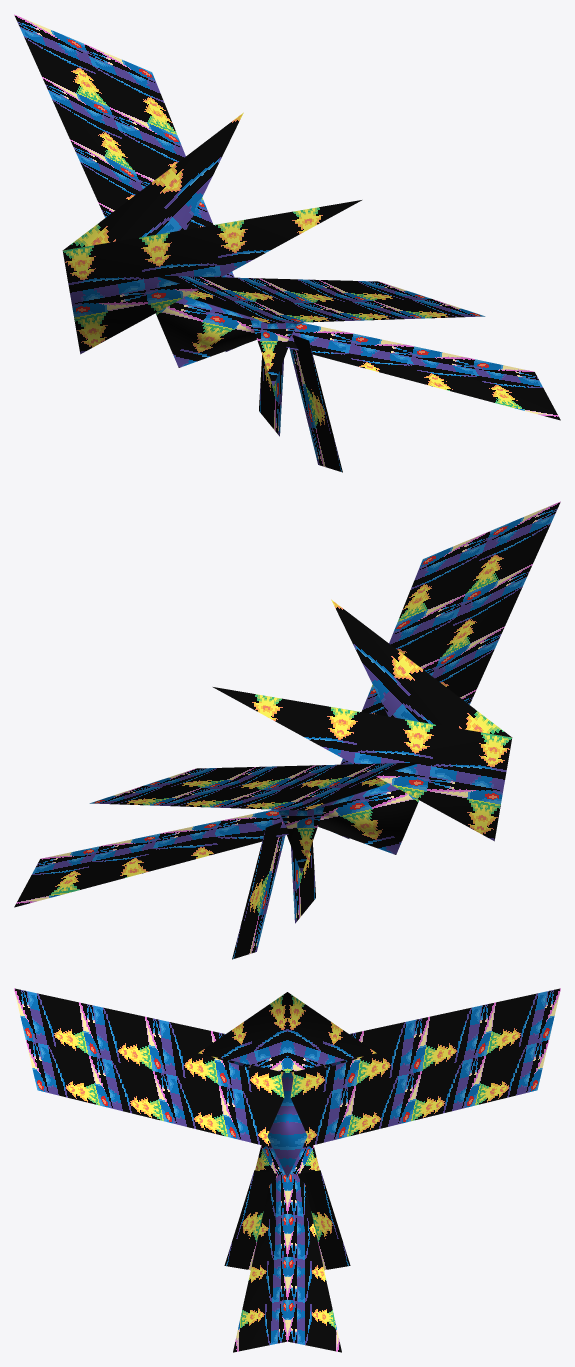
File: 5046musi56_e.gltf
The picture shows the model from 3 angles, top to bottom: view 1: azimuth 30°, elevation 25°; view 2: azimuth 150°, elevation 25°; view 3: azimuth 270°, elevation 25°; orthographic projection. The views are drawn at different scales.
Visible parts, largest first — view 1: 5046musi56_e; view 2: 5046musi56_e; view 3: 5046musi56_e.
Boxes of the visible parts, x1,y1,x2,y2 form: 5046musi56_e: (14,14,560,472); 5046musi56_e: (14,501,560,959); 5046musi56_e: (14,988,560,1352).
Bounding box in the file's own units: 0.3066 × 0.2036 × 0.4106.
Materials: 1 (1 with a texture image).
